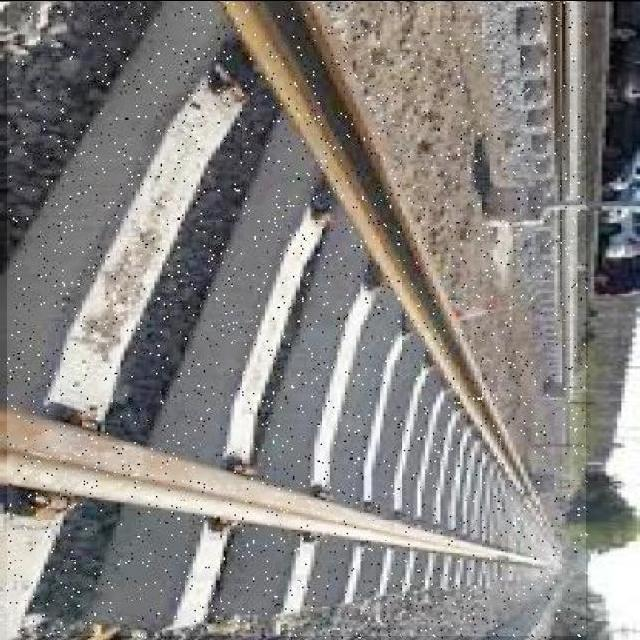rail: (9, 2, 587, 637)
